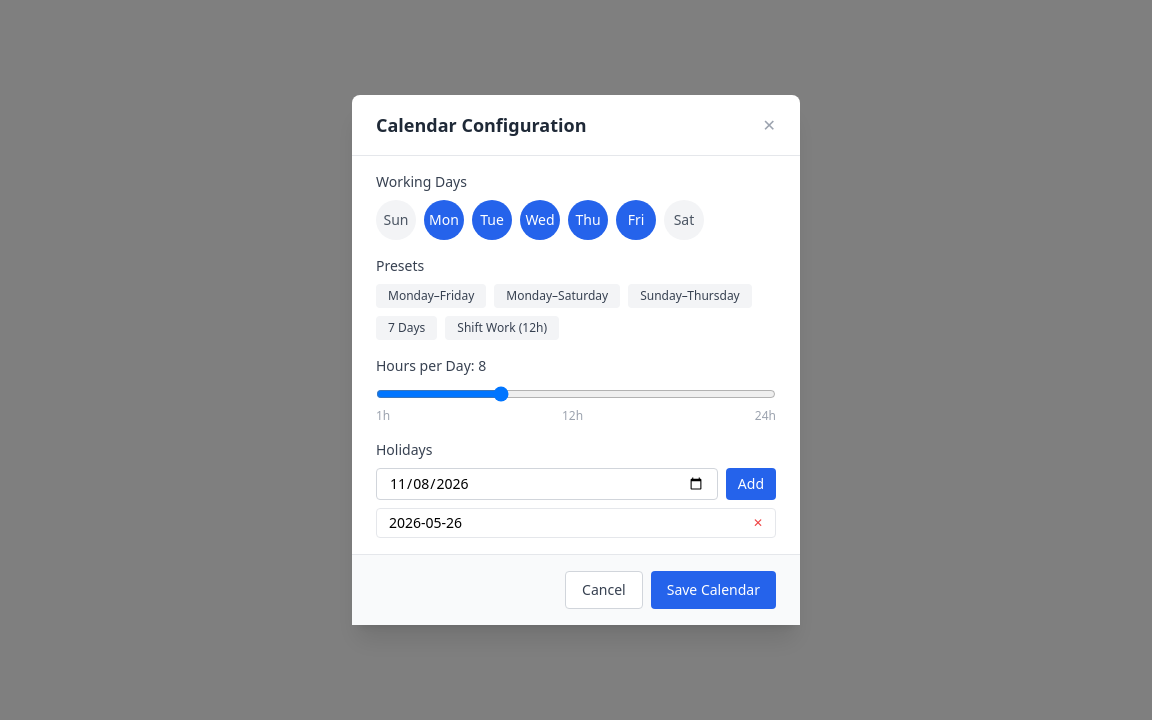
Test case: CalendarConfigModal › adds new holiday
This screenshot has width=1152, height=720.
Type "2026-12-25" into the date field.
click(547, 484); type("2026-12-25")  # box [376,468,718,500]
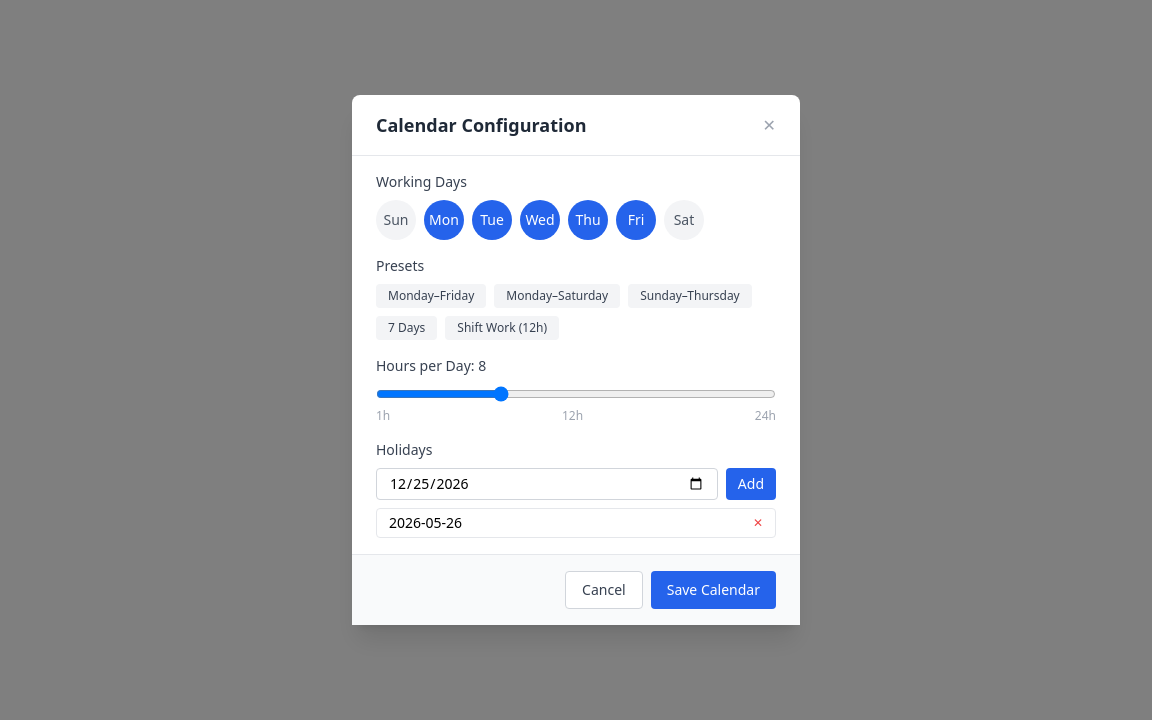
Click the button "Add".
click(751, 484)  # box [726,468,776,500]
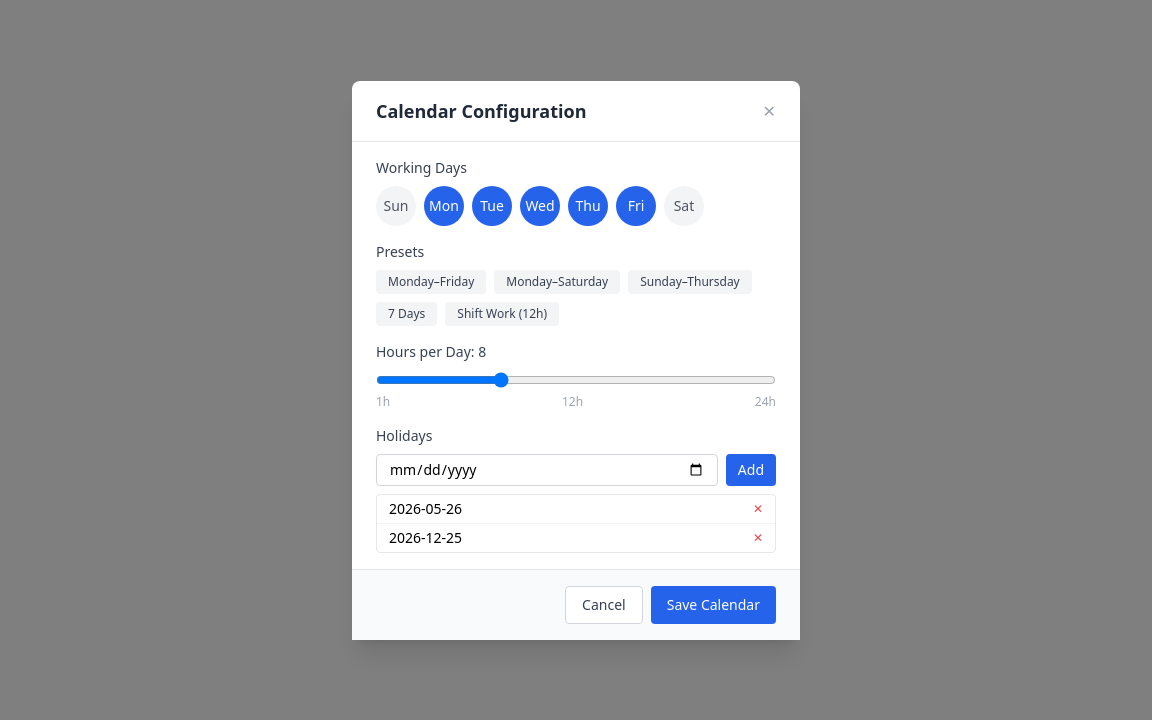
Now the text "2026-12-25" is shown, box [389,528,462,548]
